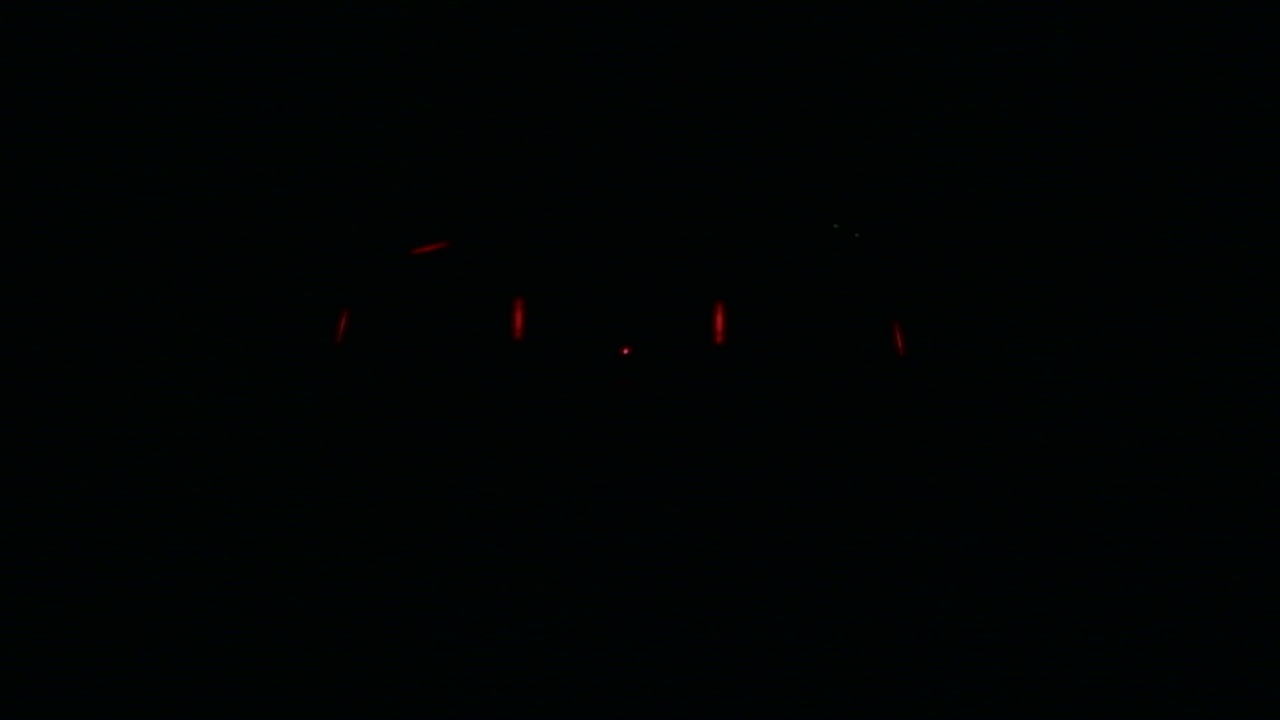lamp: (513, 297, 526, 350), (712, 295, 724, 348)
notpair2: (322, 291, 534, 348)
pair2: (512, 295, 725, 348)
